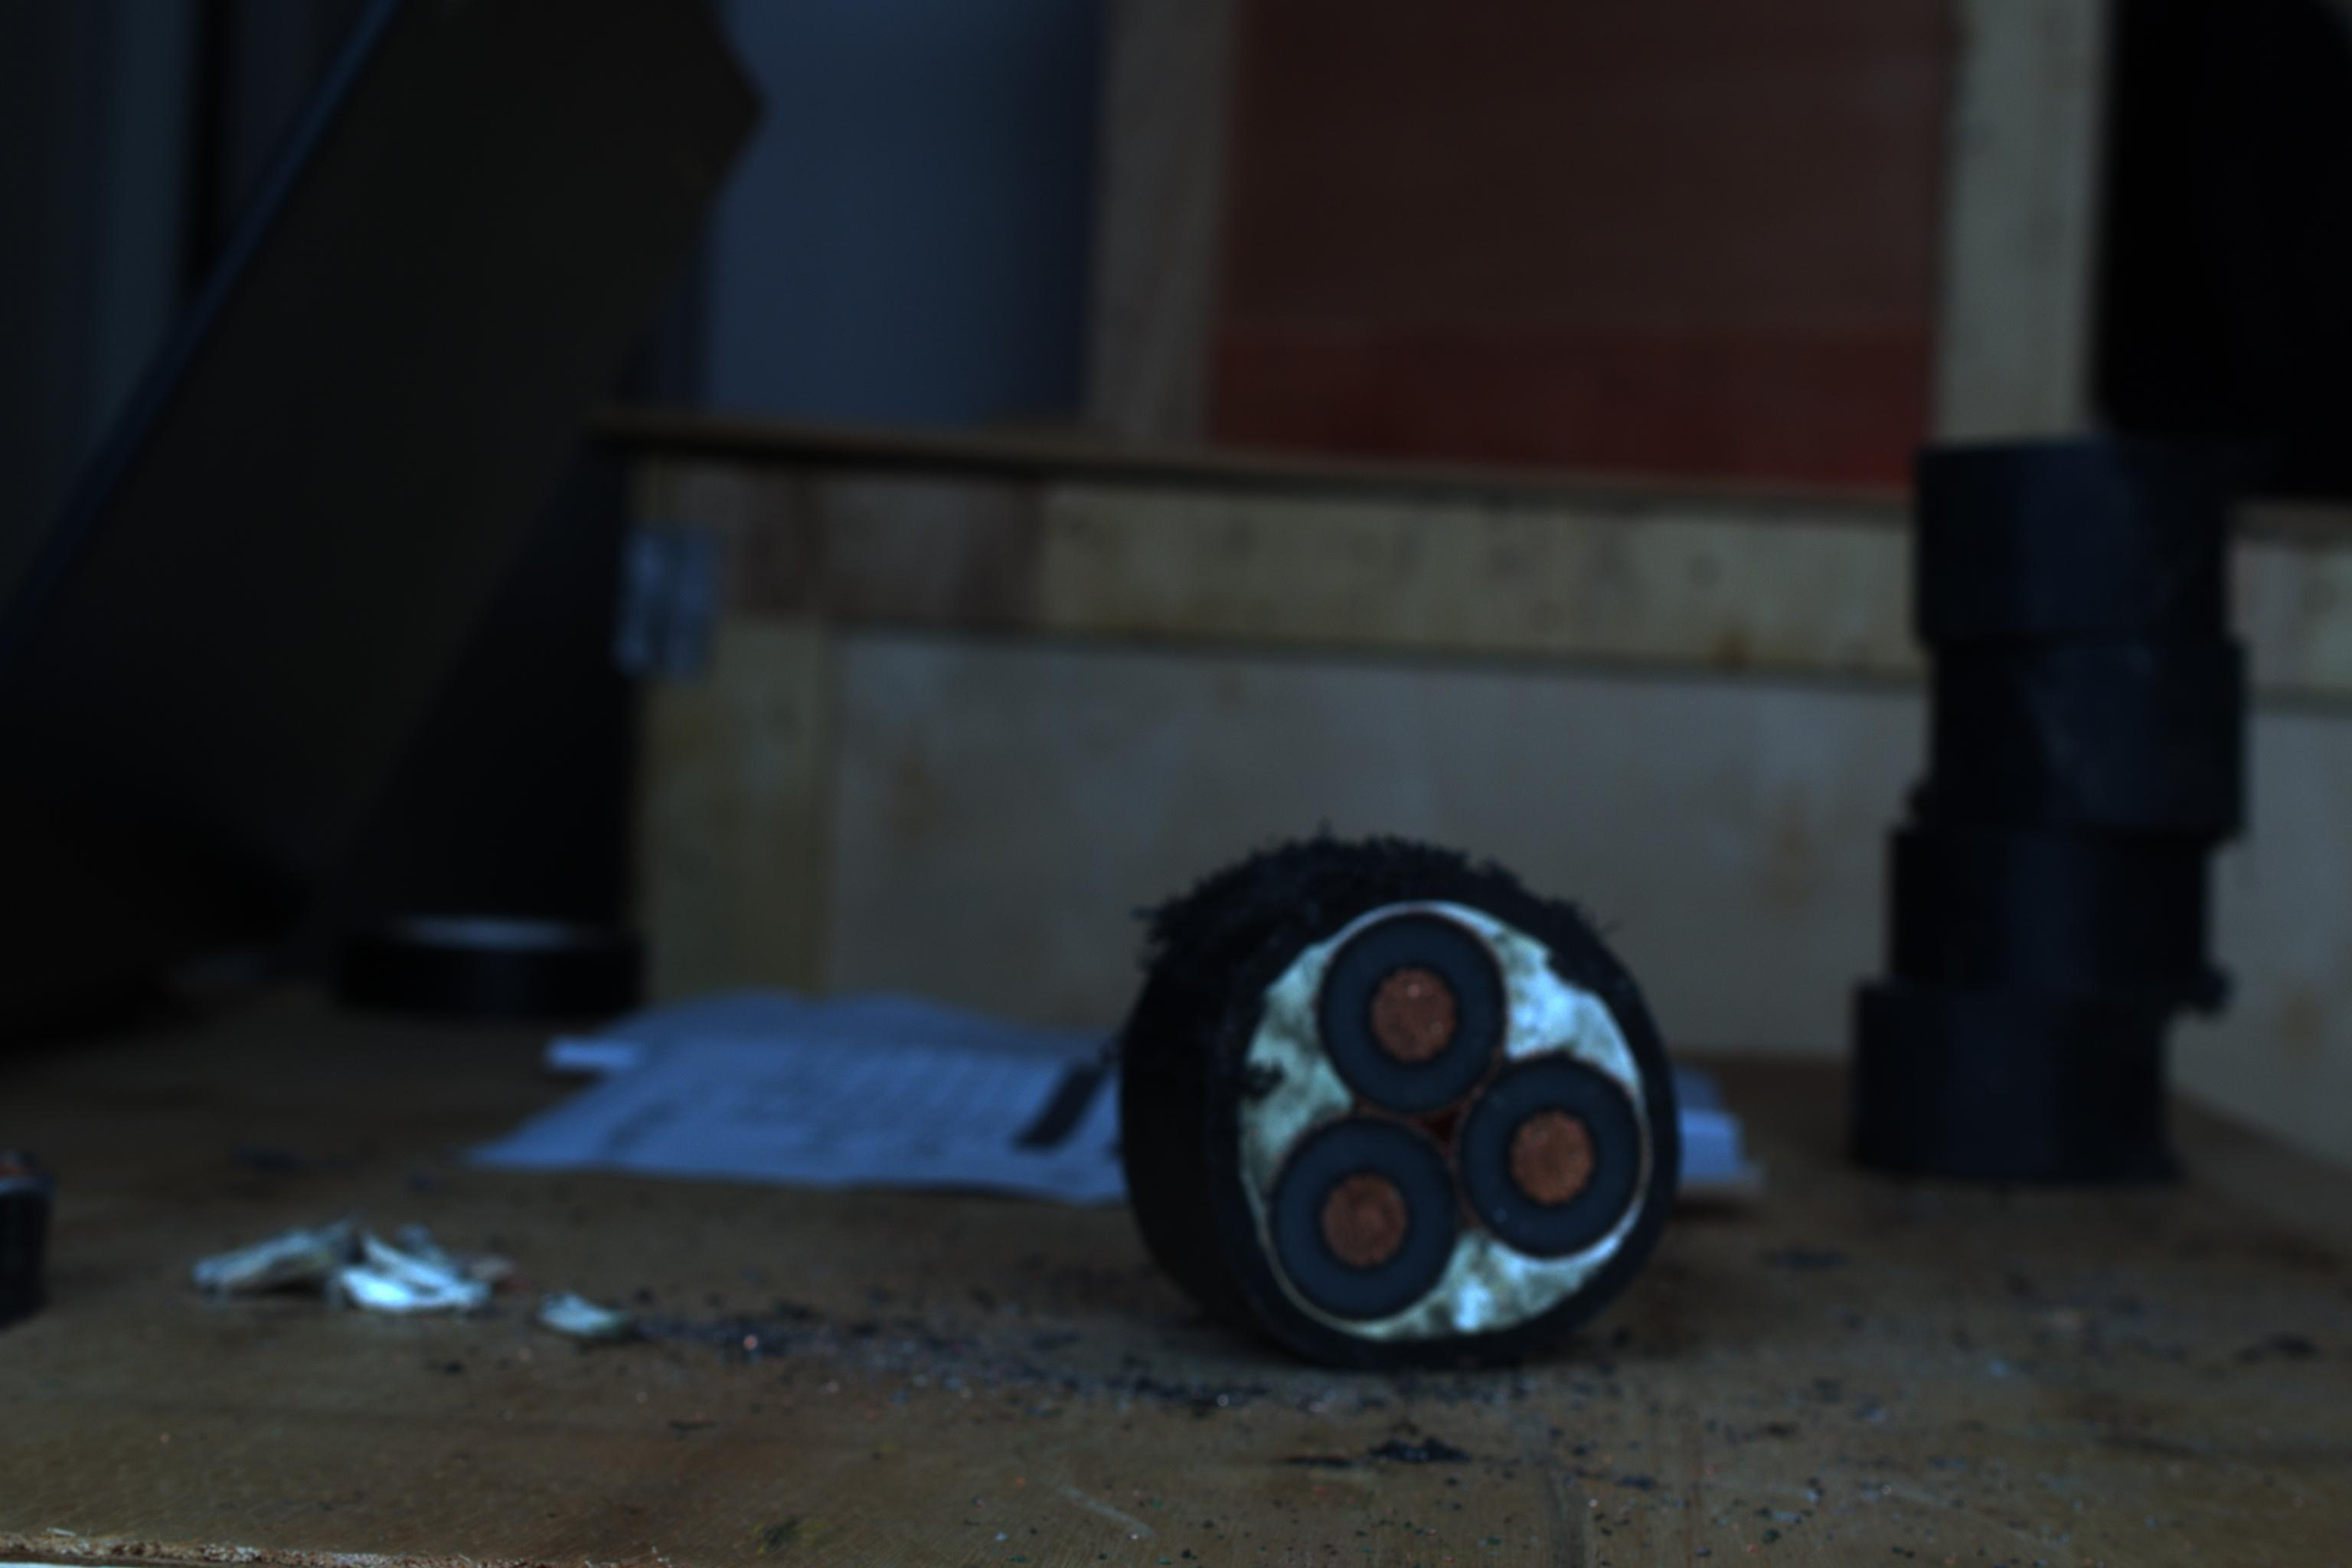YJV_8.7_10kV_3x70: (1195, 866, 1706, 1365)
